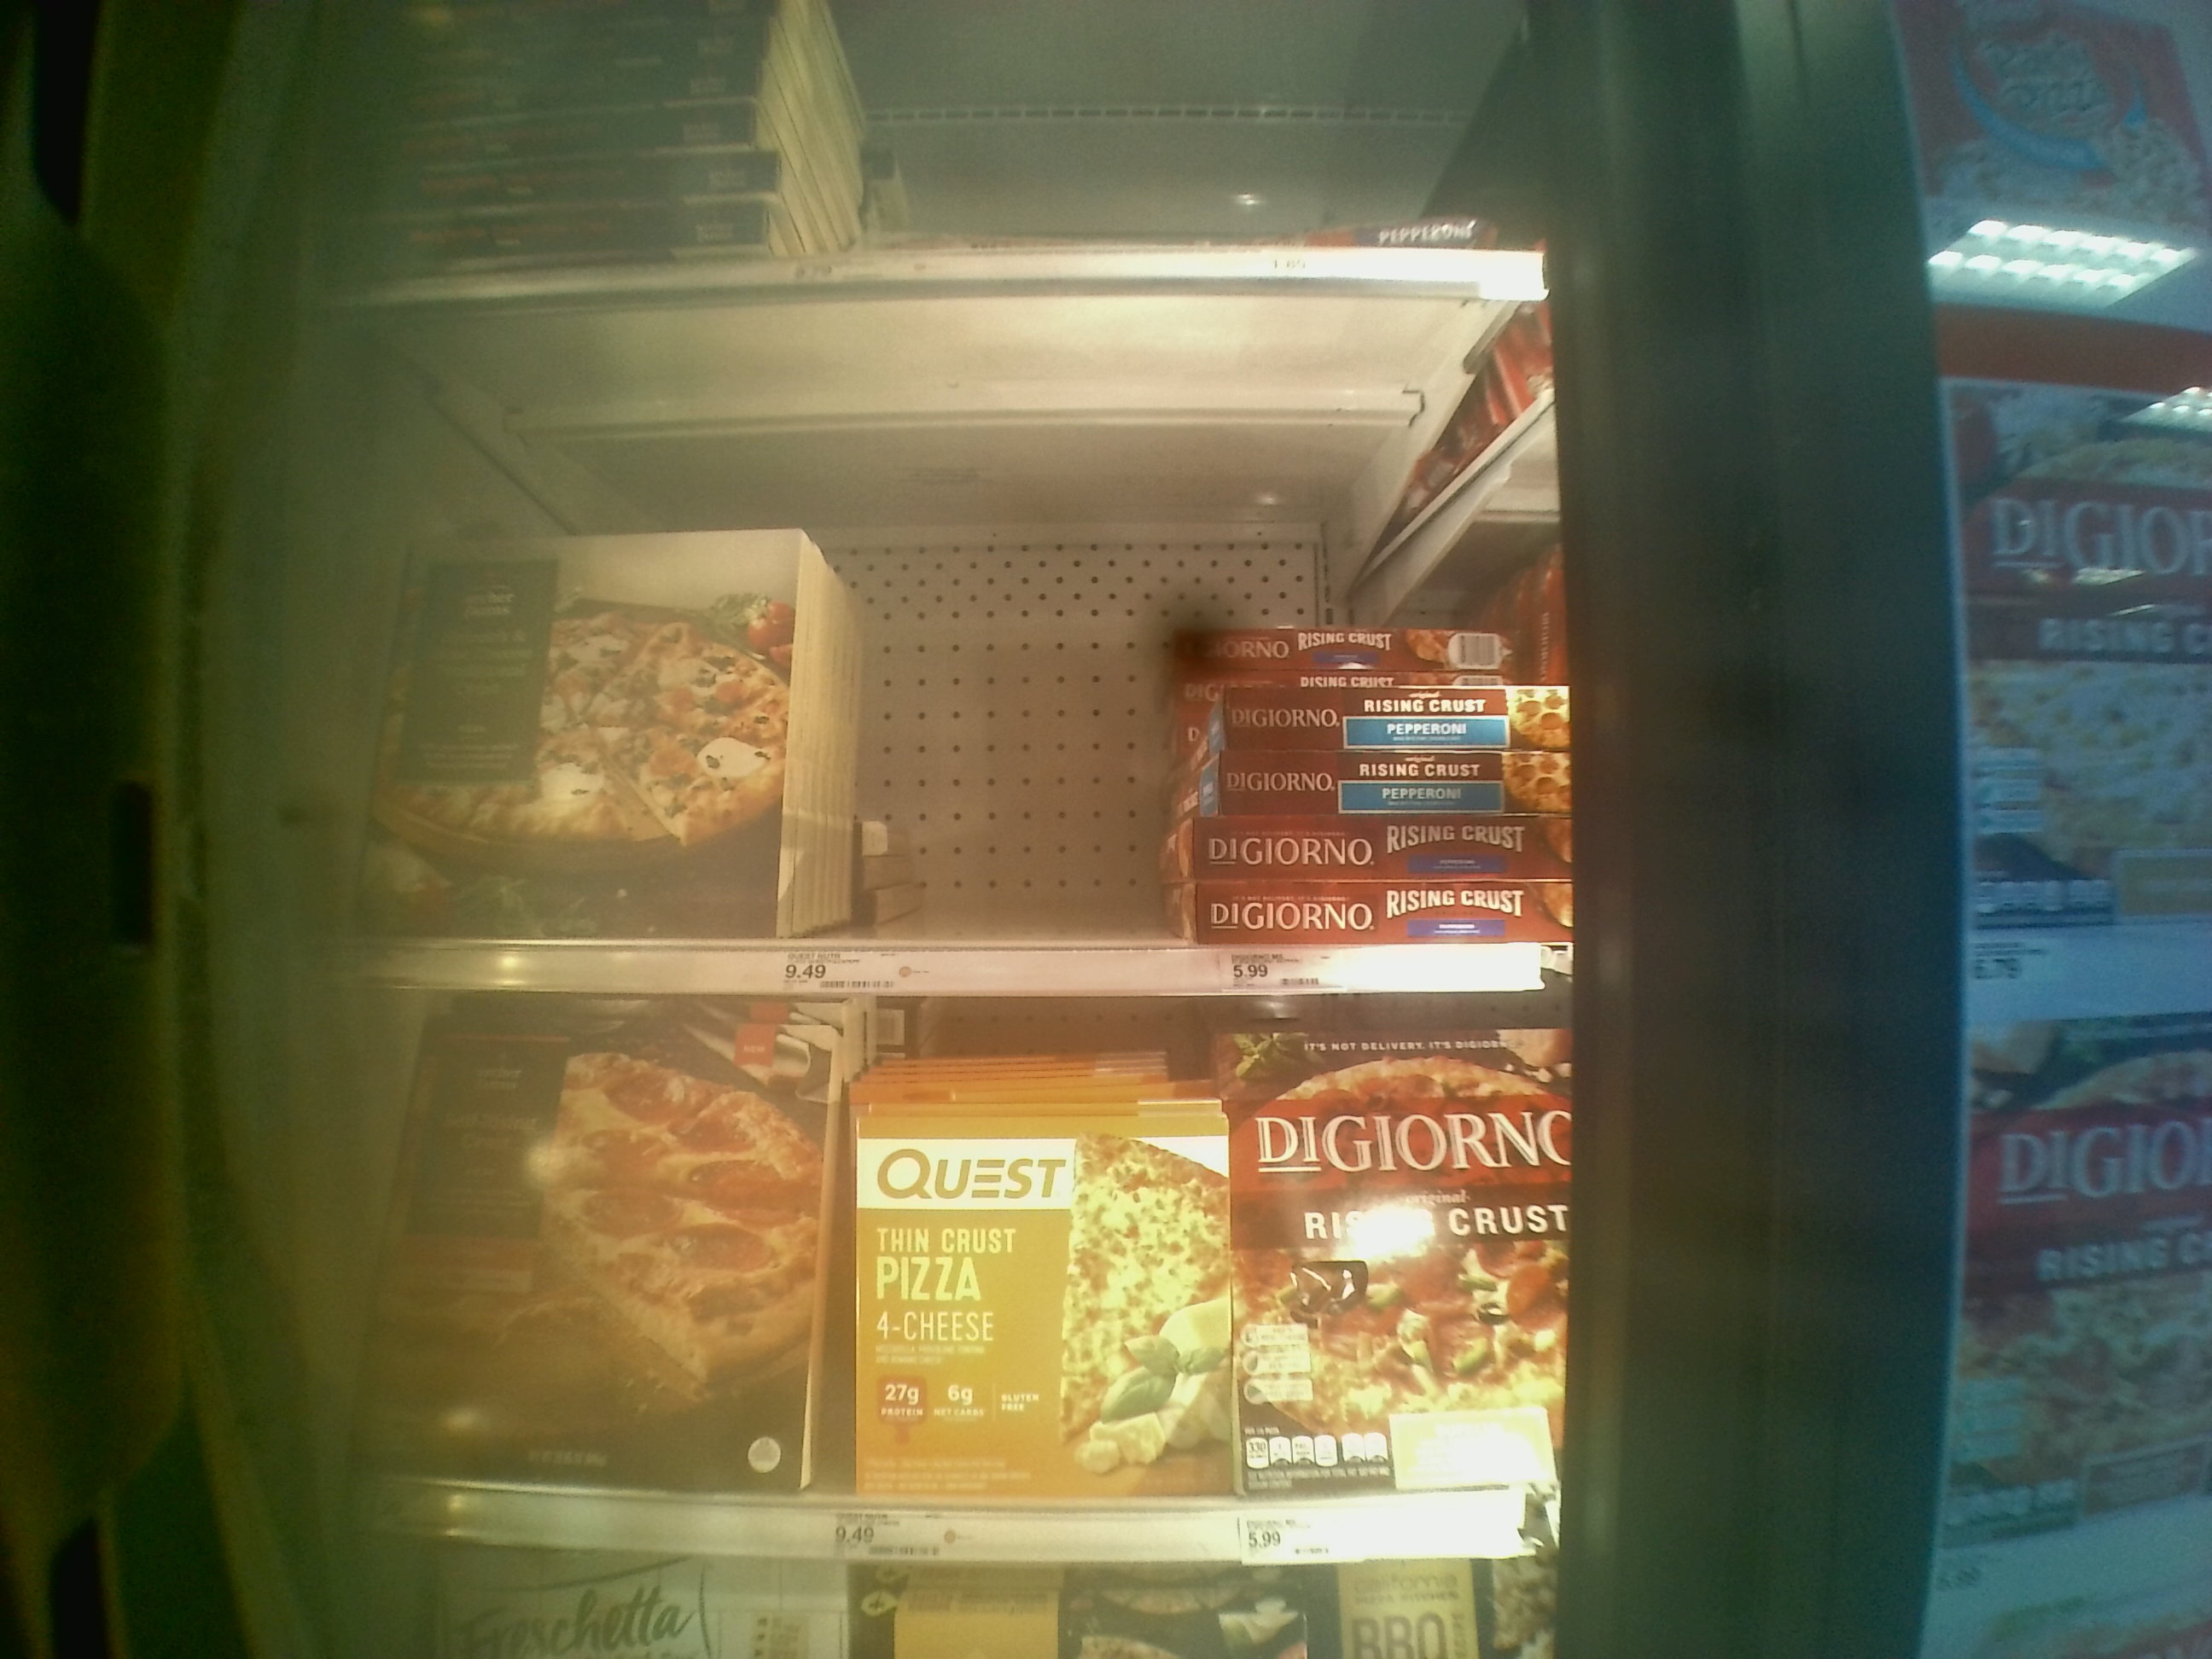shelf: (329, 265, 1561, 988), (336, 979, 1559, 1567)
